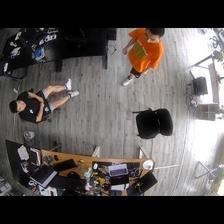normal: (9, 77, 80, 123), (118, 27, 168, 85)
